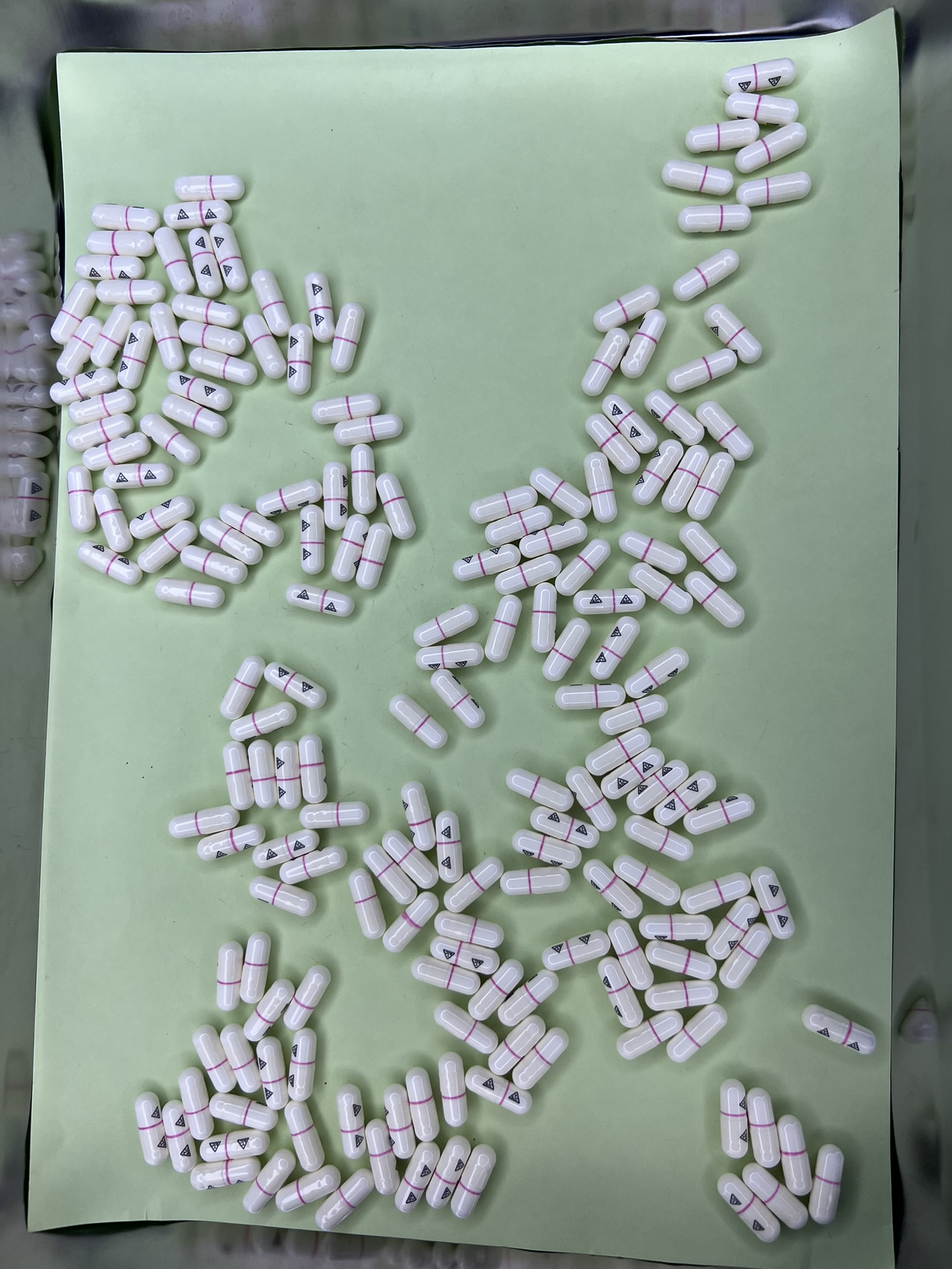Capsule: (718, 1171, 783, 1246), (741, 1161, 808, 1231), (631, 438, 686, 509), (584, 409, 641, 477), (599, 745, 667, 802), (492, 1013, 552, 1077), (449, 1142, 499, 1218), (495, 967, 556, 1029), (468, 958, 528, 1021), (704, 303, 764, 366), (611, 853, 681, 907), (390, 692, 454, 751), (803, 1004, 877, 1055), (426, 1134, 475, 1211), (736, 121, 808, 173), (718, 922, 773, 990), (552, 538, 615, 597), (381, 889, 439, 953), (315, 1168, 374, 1230), (666, 1004, 728, 1063), (679, 521, 738, 583), (695, 399, 754, 461), (583, 859, 646, 917), (511, 1027, 569, 1090), (705, 896, 762, 960), (382, 830, 438, 894), (625, 759, 689, 815), (644, 390, 706, 447), (652, 770, 715, 826), (602, 393, 658, 456), (466, 1061, 530, 1116), (581, 327, 632, 396), (241, 1150, 296, 1213), (565, 768, 618, 833), (444, 858, 504, 915), (586, 726, 653, 777), (280, 1162, 343, 1216), (624, 647, 687, 701), (432, 1003, 496, 1056), (674, 248, 738, 301), (751, 865, 796, 940), (361, 844, 418, 903), (244, 977, 294, 1044), (140, 414, 207, 464), (628, 562, 692, 614), (617, 1010, 682, 1061), (663, 445, 711, 514), (683, 572, 742, 628), (542, 613, 591, 680), (593, 283, 660, 332), (599, 955, 643, 1027), (284, 965, 332, 1031), (669, 348, 739, 393), (451, 542, 526, 584), (619, 530, 686, 577), (137, 521, 198, 572), (532, 468, 593, 519), (622, 310, 667, 379), (689, 454, 736, 520), (219, 502, 285, 549), (56, 314, 103, 380), (678, 872, 750, 915), (625, 816, 692, 862), (397, 1140, 440, 1211), (529, 807, 600, 850), (92, 304, 138, 370), (51, 281, 97, 347), (201, 518, 264, 566), (430, 671, 484, 727), (160, 393, 227, 438), (684, 794, 754, 837), (252, 828, 322, 871), (484, 504, 554, 547), (152, 227, 195, 297), (192, 1025, 235, 1094), (592, 617, 643, 675), (242, 314, 286, 381), (265, 664, 327, 711), (412, 957, 483, 998), (220, 1024, 261, 1095), (809, 1144, 844, 1227), (746, 1089, 781, 1172), (607, 920, 649, 989), (197, 821, 266, 863), (737, 171, 811, 210), (776, 1115, 812, 1195), (168, 372, 238, 413), (220, 654, 267, 715), (494, 553, 562, 595), (599, 694, 667, 736), (81, 432, 154, 471), (515, 831, 586, 871), (468, 484, 539, 524), (484, 593, 523, 665), (505, 769, 570, 812), (77, 541, 139, 586), (722, 58, 795, 96), (250, 875, 316, 917), (130, 496, 193, 540), (209, 222, 248, 293), (67, 414, 136, 454), (256, 478, 323, 519), (251, 269, 292, 336), (347, 870, 385, 942), (285, 1101, 324, 1171), (414, 606, 479, 648), (518, 519, 586, 559), (365, 1119, 401, 1194), (93, 485, 133, 552), (279, 844, 344, 885), (645, 942, 715, 980), (66, 388, 134, 427), (376, 471, 415, 539), (186, 346, 254, 385), (52, 367, 118, 407), (161, 1099, 198, 1170), (178, 1067, 216, 1136), (213, 1093, 278, 1133), (228, 704, 293, 744), (332, 513, 369, 583), (405, 1067, 439, 1143), (355, 523, 393, 591), (180, 546, 246, 585), (117, 323, 156, 389), (187, 226, 223, 297), (663, 160, 734, 196), (685, 119, 756, 155), (190, 1157, 259, 1194), (168, 806, 243, 840), (724, 93, 799, 127), (544, 931, 606, 972), (178, 320, 248, 356), (331, 302, 366, 374), (135, 1093, 169, 1166), (384, 1084, 416, 1161), (644, 979, 716, 1013), (435, 912, 503, 948), (149, 302, 184, 370), (583, 455, 618, 523), (200, 1129, 270, 1163), (432, 937, 496, 974), (438, 1052, 469, 1128), (173, 295, 242, 329), (401, 781, 435, 850), (256, 1037, 289, 1107), (240, 933, 272, 1005), (304, 272, 336, 344), (500, 866, 571, 898), (286, 585, 354, 618), (288, 1030, 318, 1104), (719, 1080, 747, 1159), (642, 913, 713, 944), (677, 203, 748, 234), (336, 1085, 366, 1158), (333, 414, 403, 445), (156, 579, 226, 610), (312, 395, 384, 425), (75, 255, 148, 284), (222, 741, 254, 805), (247, 741, 277, 808), (91, 203, 160, 232), (554, 684, 623, 713), (530, 582, 558, 653), (298, 736, 328, 802), (416, 643, 482, 673), (66, 466, 96, 532), (103, 460, 171, 489), (95, 278, 163, 307), (300, 801, 368, 830), (174, 175, 246, 202), (164, 201, 231, 230), (274, 740, 302, 809), (436, 811, 464, 880), (216, 941, 243, 1012), (350, 446, 377, 516), (574, 587, 640, 615), (299, 503, 325, 574), (86, 230, 154, 257), (287, 325, 313, 394), (323, 461, 349, 528)
